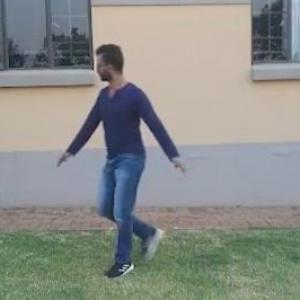land: (52, 58, 189, 239)
